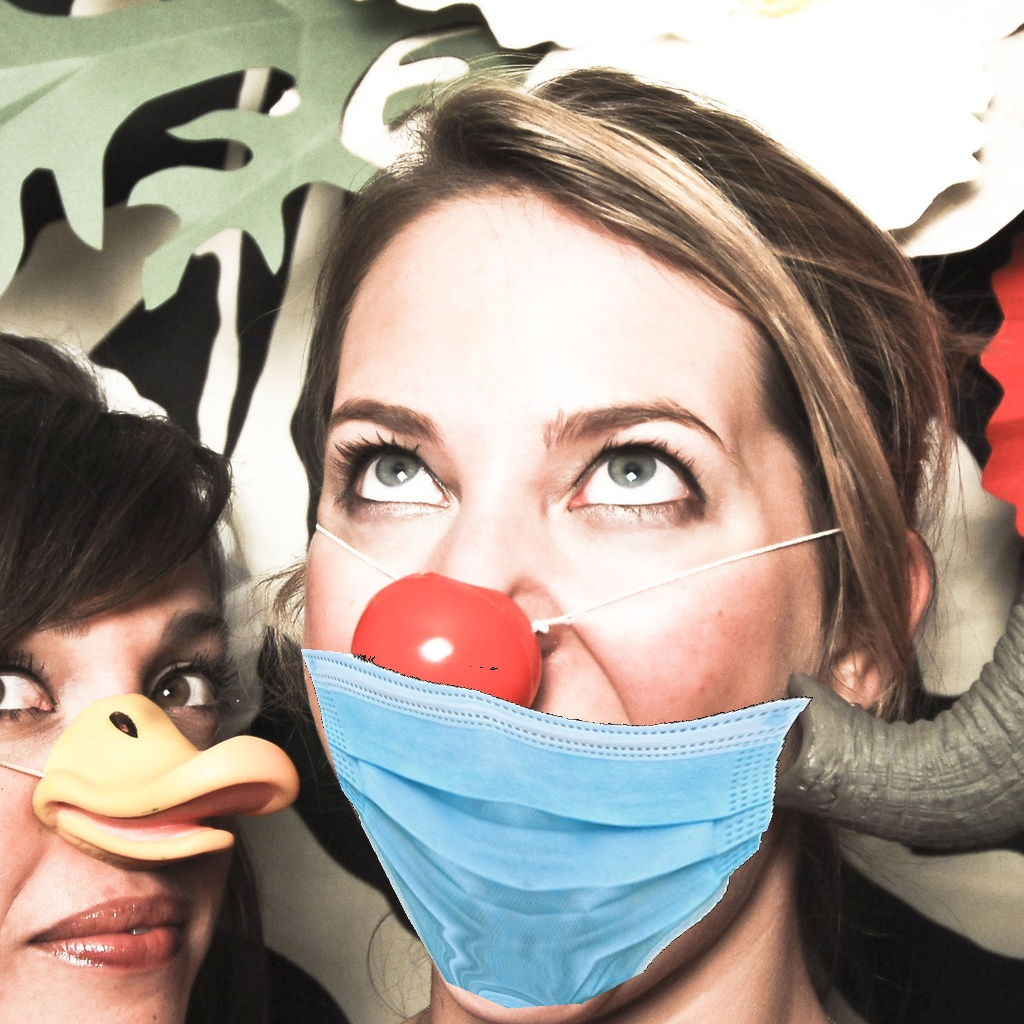mascarilla_mal_puesta: (279, 383, 834, 973)
